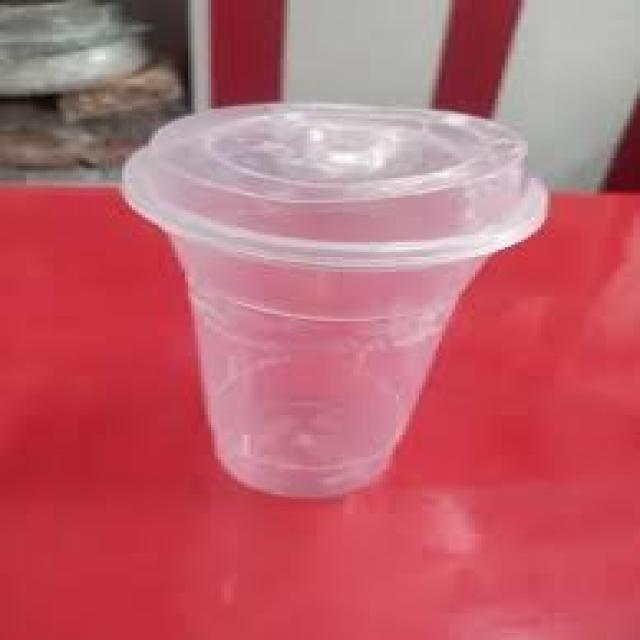bottle: (125, 104, 547, 497)
